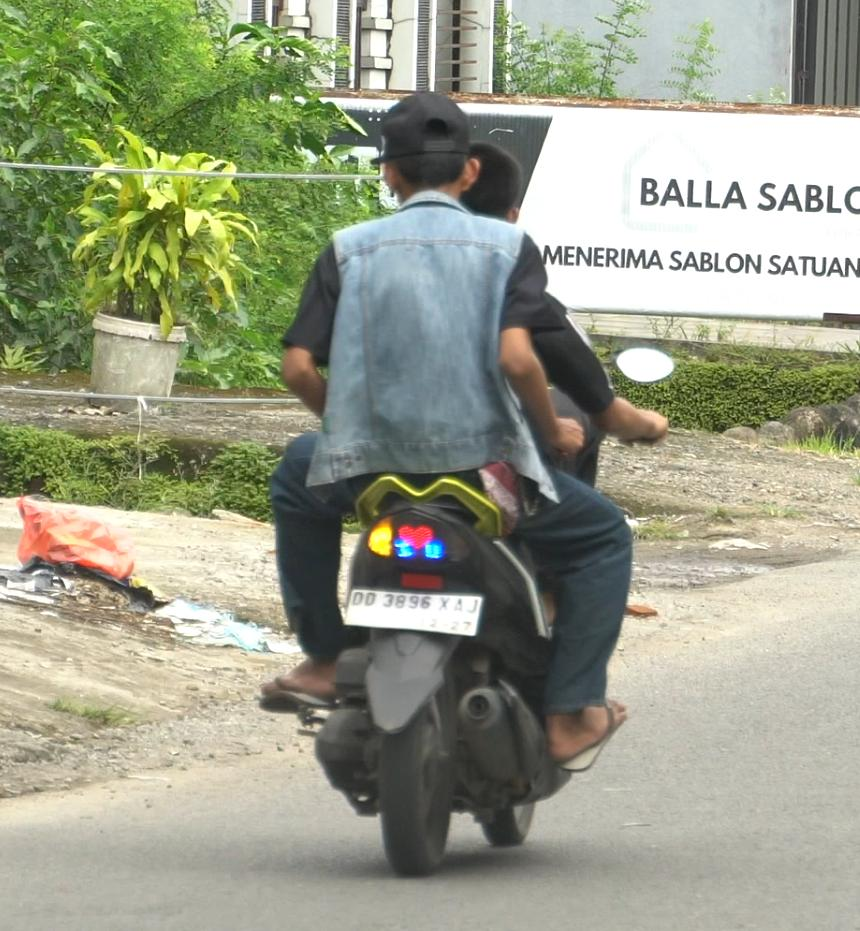number-plate: (338, 584, 485, 642)
